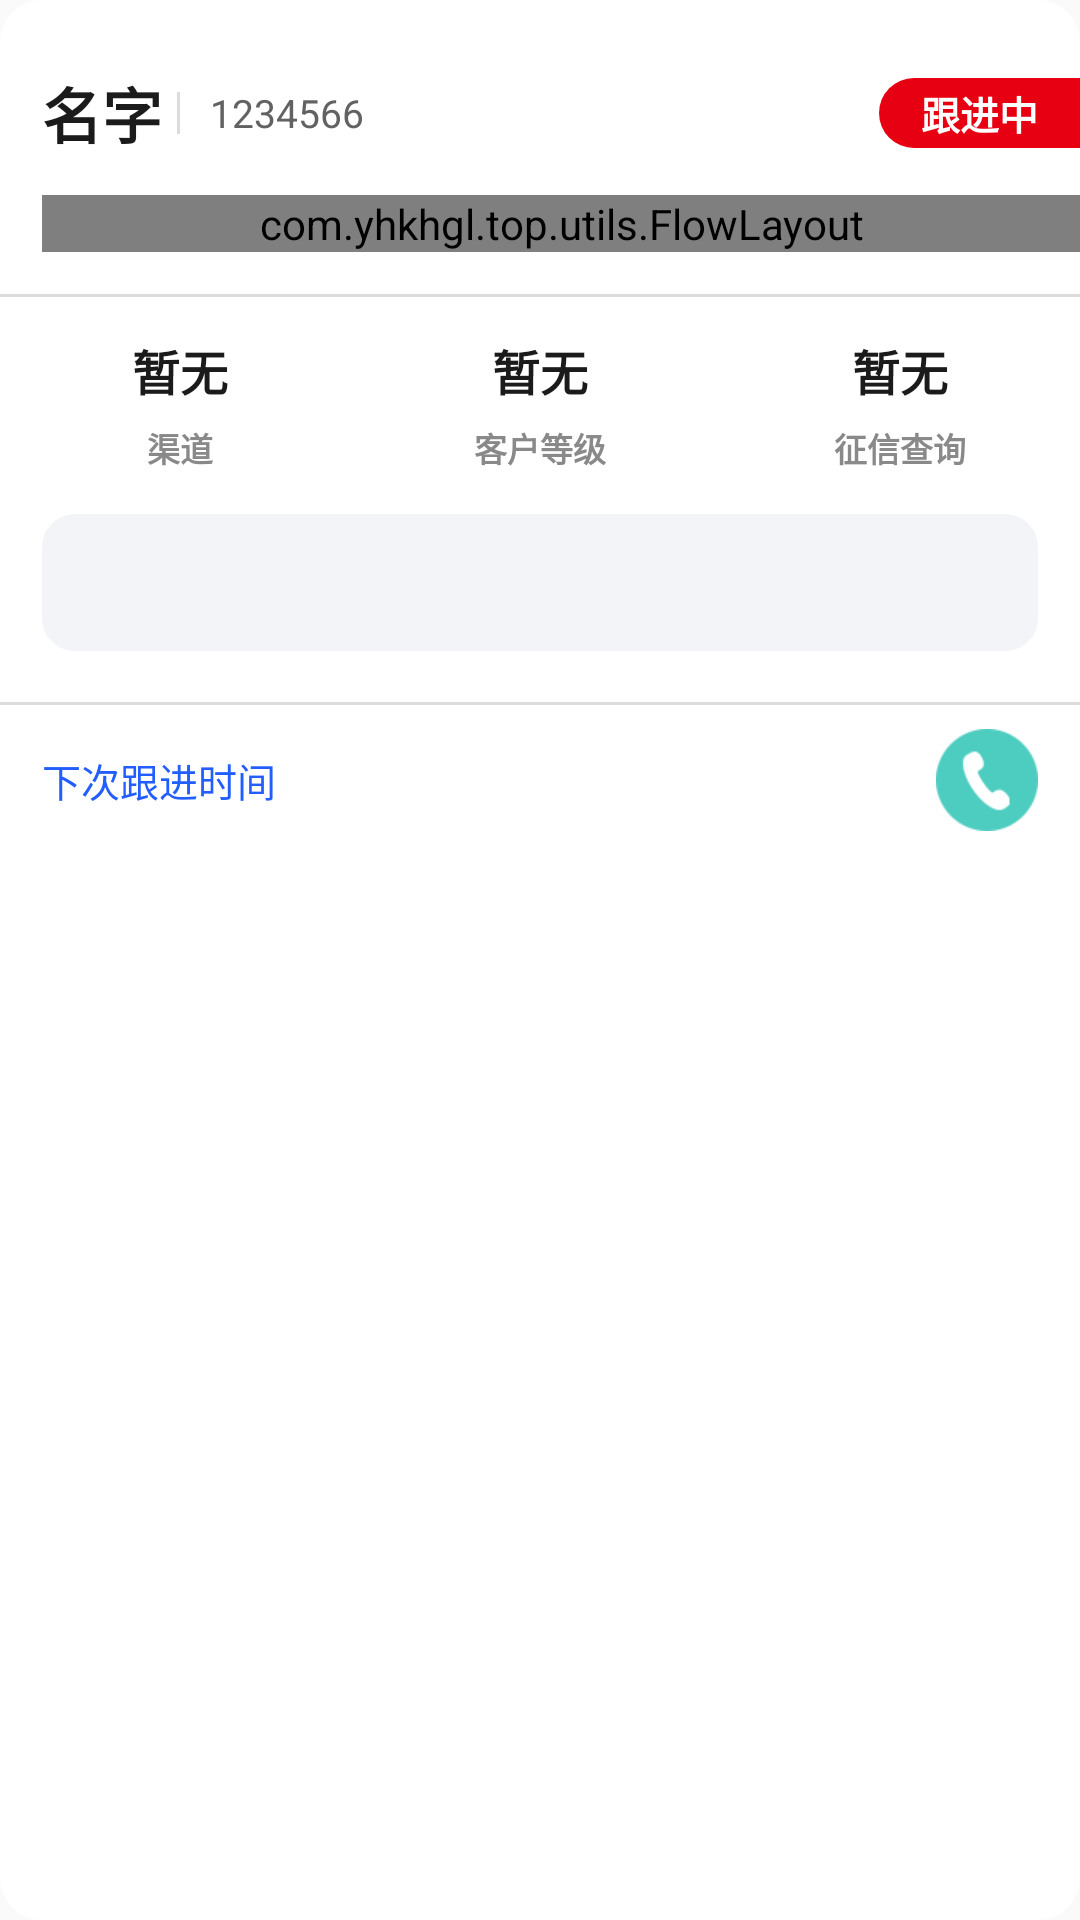

Screen size 1080w x 1920h. Icon name, then its center in pixels as (x=x, y=y):
list but phone: (x=987, y=780)
